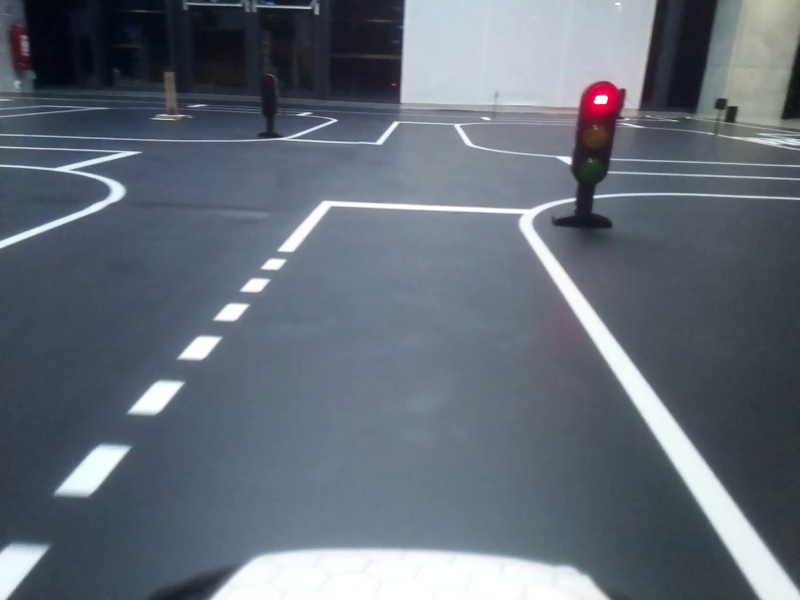traffic_red: (574, 84, 613, 185)
